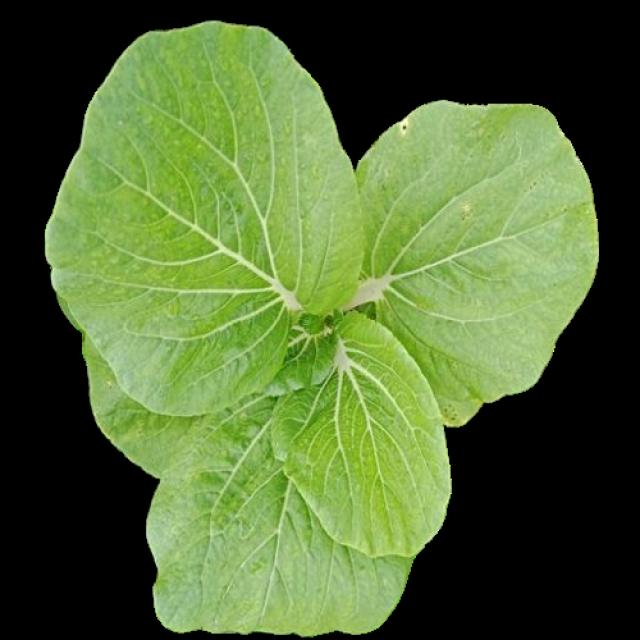mature: (52, 26, 600, 632)
unhealthy: (356, 99, 595, 421)
